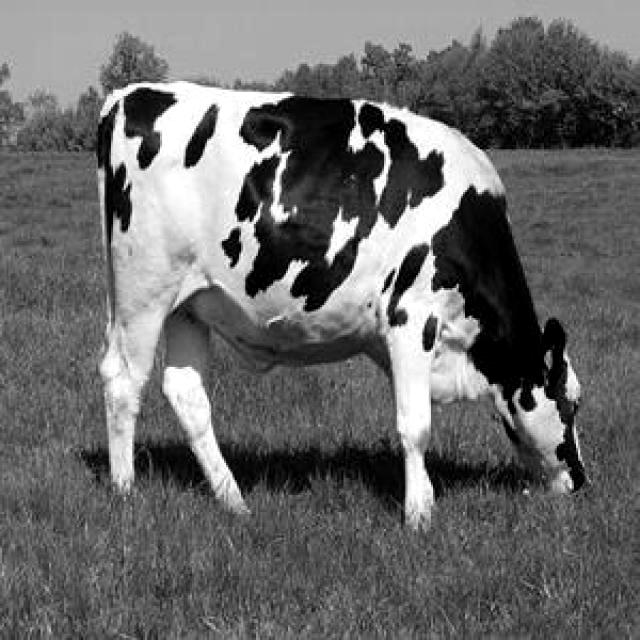COW: (98, 82, 584, 527)
